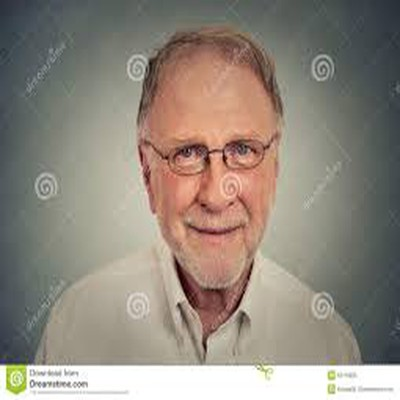eywear: (134, 113, 279, 178)
